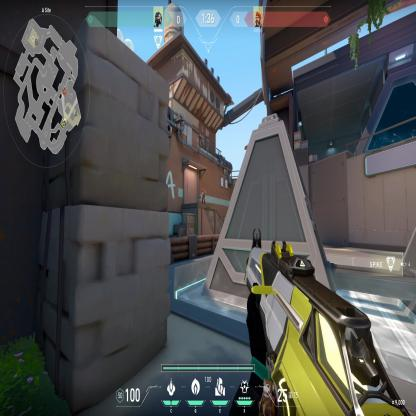enemy: (201, 186, 206, 204)
